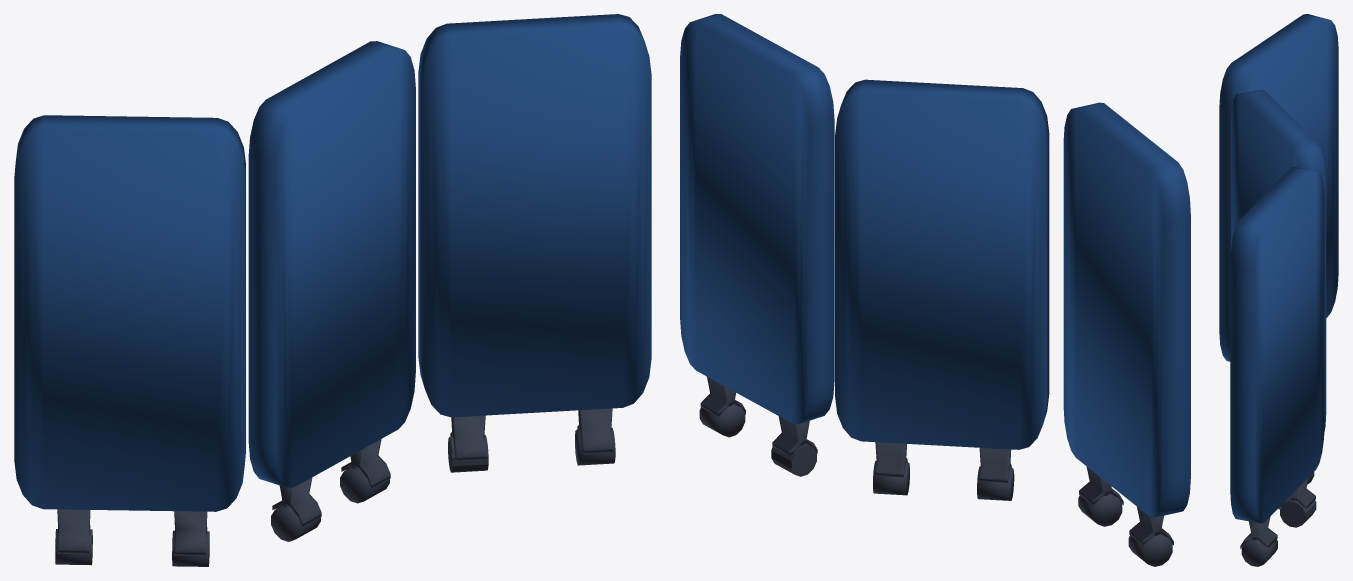
The model's file is FoldoutWallPanel.glb.
3 views of the same model, side by side, from view 1: azimuth 30°, elevation 25°; view 2: azimuth 150°, elevation 25°; view 3: azimuth 270°, elevation 25° (orthographic). The views are drawn at different scales.
Visible parts, largest first — view 1: Cube.039, Cube.038, Cube.037, WheelGuardLeft1.029, WheelGuardLeft1.028, WheelGuardLeft1.026, WheelGuardLeft1.027, WheelGuardLeft1.024, WheelGuardLeft1.025, LeftWheel1.025, LeftWheel1.024; view 2: Cube.037, Cube.039, Cube.038, WheelGuardLeft1.024, WheelGuardLeft1.025, LeftWheel1.029, LeftWheel1.028, LeftWheel1.027, LeftWheel1.026, WheelGuardLeft1.028, WheelGuardLeft1.029, WheelGuardLeft1.026 (+3 smaller); view 3: Cube.039, Cube.038, Cube.037, LeftWheel1.029, LeftWheel1.028, WheelGuardLeft1.029, WheelGuardLeft1.028.
Part boxes in pixels (x1,y1,x2,y2): Cube.039: [418, 14, 651, 417]; Cube.038: [14, 115, 245, 511]; Cube.037: [248, 41, 415, 487]; WheelGuardLeft1.029: [577, 408, 613, 454]; WheelGuardLeft1.028: [450, 415, 486, 461]; WheelGuardLeft1.026: [57, 509, 90, 554]; WheelGuardLeft1.027: [174, 511, 207, 555]; WheelGuardLeft1.024: [272, 477, 321, 527]; WheelGuardLeft1.025: [341, 439, 390, 488]; LeftWheel1.025: [340, 468, 389, 503]; LeftWheel1.024: [271, 506, 320, 541]; Cube.037: [835, 79, 1049, 449]; Cube.039: [680, 14, 834, 423]; Cube.038: [1063, 102, 1190, 517]; WheelGuardLeft1.024: [979, 447, 1011, 482]; WheelGuardLeft1.025: [875, 442, 907, 477]; LeftWheel1.029: [699, 405, 745, 437]; LeftWheel1.028: [771, 444, 816, 476]; LeftWheel1.027: [1078, 494, 1122, 526]; LeftWheel1.026: [1128, 534, 1172, 566]; WheelGuardLeft1.028: [772, 416, 817, 455]; WheelGuardLeft1.029: [700, 377, 745, 416]; WheelGuardLeft1.026: [1129, 507, 1173, 545]; Cube.039: [1230, 167, 1324, 523]; Cube.038: [1219, 14, 1338, 361]; Cube.037: [1231, 89, 1326, 431]; LeftWheel1.029: [1241, 539, 1277, 566]; LeftWheel1.028: [1280, 500, 1316, 527]; WheelGuardLeft1.029: [1240, 516, 1277, 548]; WheelGuardLeft1.028: [1278, 477, 1315, 509].
Bounding box in the file's own units: 3.94 × 2.79 × 0.8722.
Materials: 1 (1 with a texture image).
